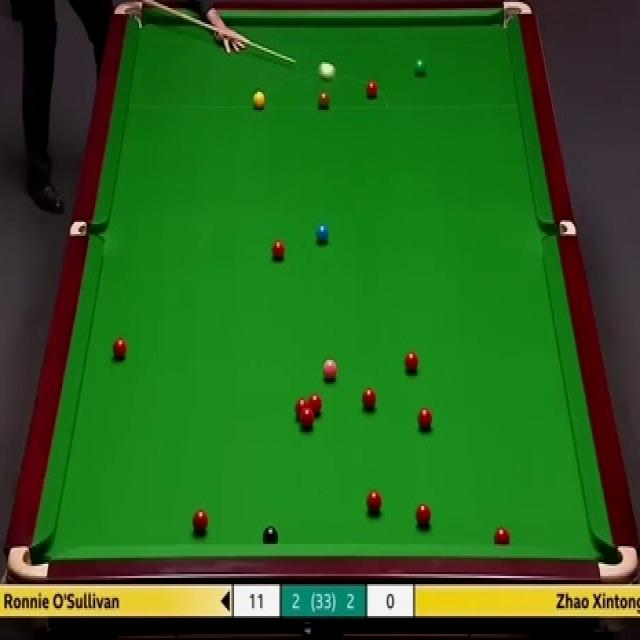black-ball: (262, 525, 280, 546)
blue-ball: (316, 222, 330, 246)
brown-ball: (318, 88, 330, 108)
green-ball: (412, 56, 426, 78)
pink-ball: (322, 359, 339, 384)
red-ball: (358, 385, 376, 411), (191, 508, 208, 535), (415, 504, 432, 530), (404, 349, 420, 375), (366, 490, 382, 516), (417, 406, 433, 429), (112, 335, 126, 360), (294, 398, 308, 422), (309, 393, 322, 418), (272, 237, 284, 264), (493, 526, 511, 543), (300, 411, 316, 430), (366, 78, 379, 99)
white-ball: (320, 62, 337, 79)
yellow-ball: (252, 91, 266, 109)
